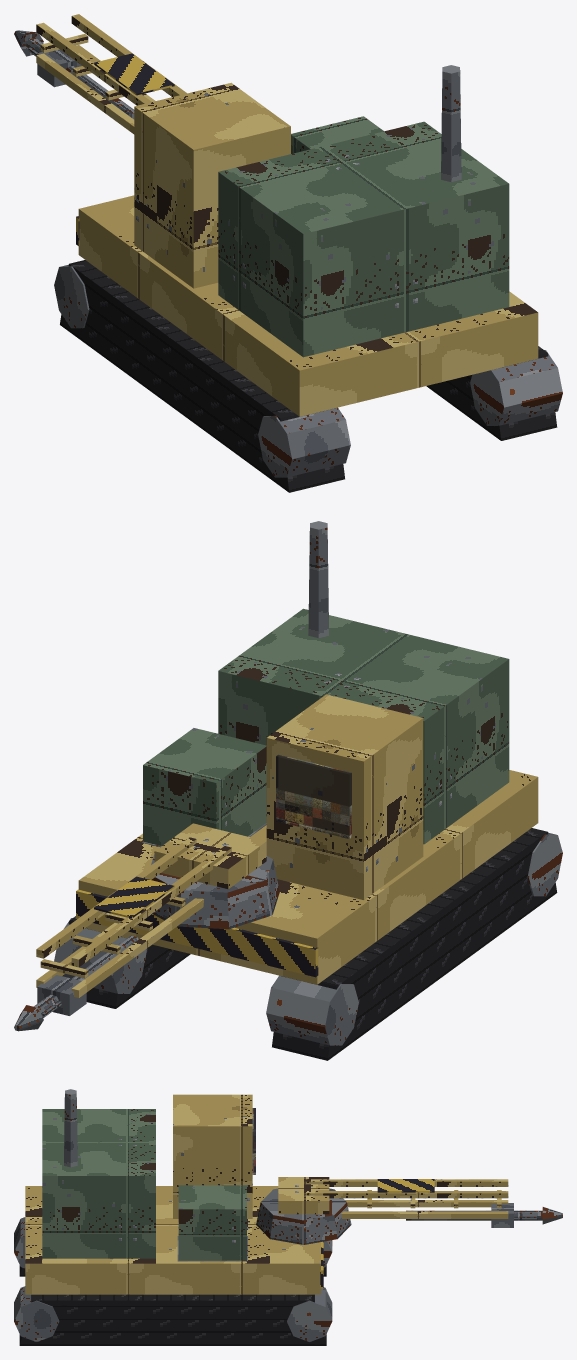
File: machinery__drill_rig.glb
3 views of the same model, one above another, from view 1: azimuth 30°, elevation 25°; view 2: azimuth 150°, elevation 25°; view 3: azimuth 270°, elevation 25° (orthographic). The views are drawn at different scales.
Parts seen in each view (by area): view 1: _MeshInstance3D_72, _MeshInstance3D_73, _MeshInstance3D_70, _MeshInstance3D_71, _MeshInstance3D_81, _MeshInstance3D_83, _MeshInstance3D_85, _MeshInstance3D_82; view 2: _MeshInstance3D_73, _MeshInstance3D_72, _MeshInstance3D_70, _MeshInstance3D_71, _MeshInstance3D_81, _MeshInstance3D_75, _MeshInstance3D_74, _MeshInstance3D_78, _MeshInstance3D_79, _MeshInstance3D_83, _MeshInstance3D_85, _MeshInstance3D_82; view 3: _MeshInstance3D_73, _MeshInstance3D_72, _MeshInstance3D_70, _MeshInstance3D_71, _MeshInstance3D_81, _MeshInstance3D_78, _MeshInstance3D_79, _MeshInstance3D_85, _MeshInstance3D_83, _MeshInstance3D_82.
Boxes of the visible parts, left/top/right/bottom form: _MeshInstance3D_72: left=218, top=116, right=509, bottom=357; _MeshInstance3D_73: left=78, top=82, right=538, bottom=416; _MeshInstance3D_70: left=60, top=260, right=557, bottom=492; _MeshInstance3D_71: left=54, top=65, right=562, bottom=477; _MeshInstance3D_81: left=36, top=14, right=186, bottom=134; _MeshInstance3D_83: left=94, top=53, right=174, bottom=95; _MeshInstance3D_85: left=14, top=30, right=134, bottom=119; _MeshInstance3D_82: left=37, top=49, right=81, bottom=87; _MeshInstance3D_73: left=78, top=694, right=538, bottom=984; _MeshInstance3D_72: left=143, top=608, right=509, bottom=845; _MeshInstance3D_70: left=68, top=828, right=557, bottom=1060; _MeshInstance3D_71: left=54, top=521, right=562, bottom=1045; _MeshInstance3D_81: left=36, top=837, right=231, bottom=997; _MeshInstance3D_75: left=276, top=754, right=351, bottom=838; _MeshInstance3D_74: left=76, top=889, right=318, bottom=977; _MeshInstance3D_78: left=151, top=854, right=279, bottom=929; _MeshInstance3D_79: left=154, top=823, right=266, bottom=889; _MeshInstance3D_83: left=94, top=876, right=174, bottom=918; _MeshInstance3D_85: left=14, top=935, right=138, bottom=1031; _MeshInstance3D_82: left=37, top=975, right=86, bottom=1015; _MeshInstance3D_73: left=25, top=1094, right=320, bottom=1294; _MeshInstance3D_72: left=42, top=1109, right=246, bottom=1260; _MeshInstance3D_70: left=19, top=1265, right=326, bottom=1345; _MeshInstance3D_71: left=14, top=1089, right=332, bottom=1341; _MeshInstance3D_81: left=304, top=1179, right=508, bottom=1218; _MeshInstance3D_78: left=256, top=1188, right=351, bottom=1244; _MeshInstance3D_79: left=278, top=1177, right=329, bottom=1214; _MeshInstance3D_85: left=406, top=1207, right=562, bottom=1224; _MeshInstance3D_83: left=377, top=1179, right=434, bottom=1192; _MeshInstance3D_82: left=491, top=1203, right=513, bottom=1227.
Size of the model in its own units: 1.84 by 2.25 by 4.83.
Materials: 6 (6 with a texture image).
